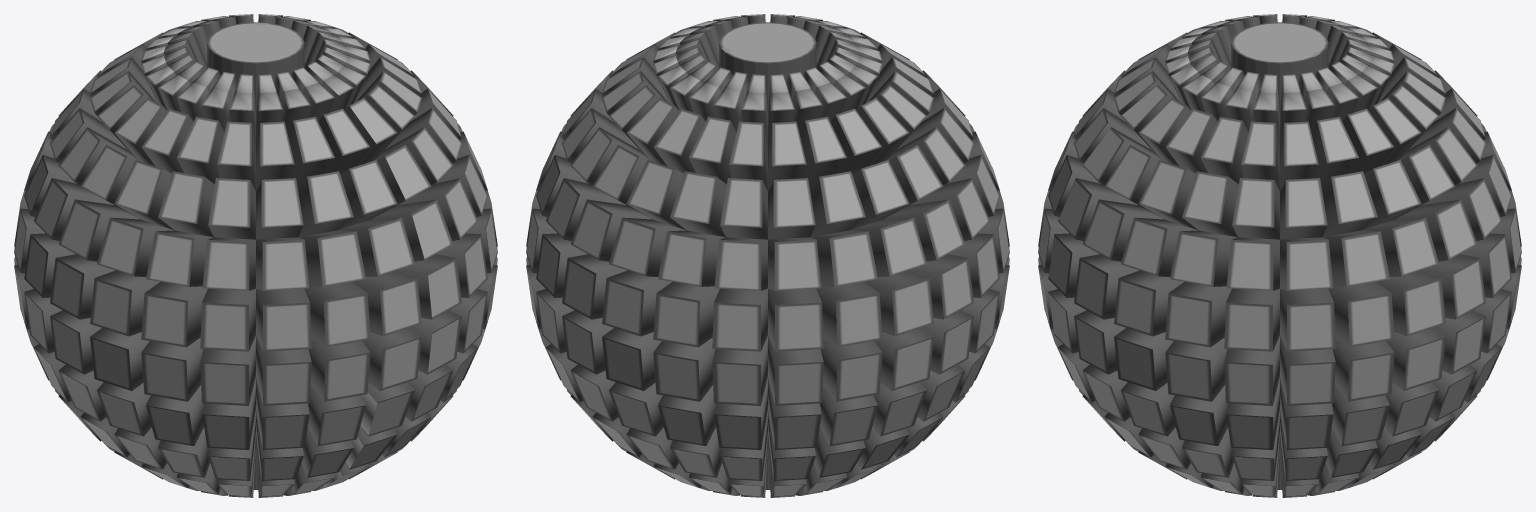
Rendered from DiscoBall.fbx.
3 renders of one model, left to right at view 1: azimuth 30°, elevation 25°; view 2: azimuth 150°, elevation 25°; view 3: azimuth 270°, elevation 25°, orthographic.
Parts seen in each view (by area): view 1: DiscoBall; view 2: DiscoBall; view 3: DiscoBall.
Boxes of the visible parts, box(x1,y1,x2,y2) form: DiscoBall: box(14, 14, 497, 497); DiscoBall: box(526, 14, 1009, 497); DiscoBall: box(1038, 14, 1521, 497).
Bounding box in the file's own units: 258 × 255 × 258.
Materials: 1 (1 with a texture image).
